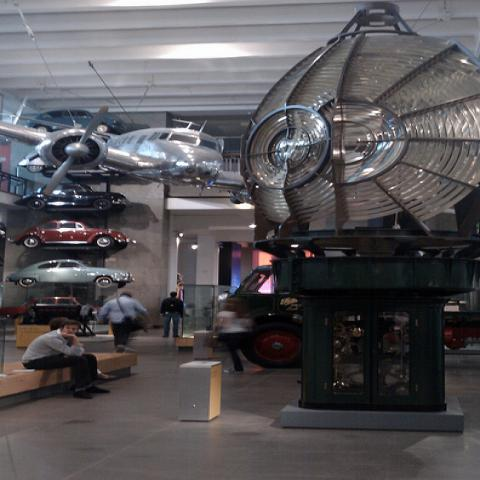car: (6, 217, 139, 252), (7, 258, 136, 290), (15, 184, 130, 213), (0, 294, 107, 318), (27, 111, 128, 136), (18, 149, 54, 173)
